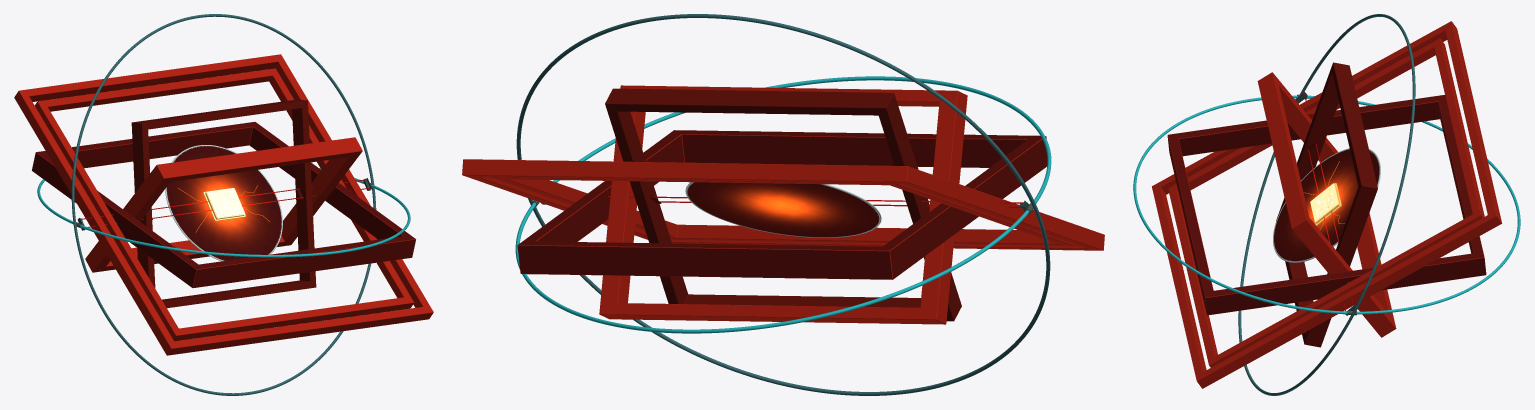
Rendered from BipolarNanoflake_FixedView_Review.fbx.
3 views of the same model, side by side, from view 1: azimuth 30°, elevation 25°; view 2: azimuth 150°, elevation 25°; view 3: azimuth 270°, elevation 25° (orthographic). The views are drawn at different scales.
Visible parts, largest first — view 1: 完整铜红长方形外框_2_蓝.003, 完整铜红长方形外框_1_橙.003, 最大框_附属内层.001, 核心_一体圆盘与灰色边框.001, 完整铜红长方形外框_4_黑.003, 完整铜红长方形外框_3_绿.003, 外围纵向大环线_闭合.001, 青色环绕细线_闭合.001; view 2: 完整铜红长方形外框_2_蓝.003, 完整铜红长方形外框_3_绿.003, 完整铜红长方形外框_1_橙.003, 完整铜红长方形外框_4_黑.003, 核心_一体圆盘与灰色边框.001, 最大框_附属内层.001, 外围纵向大环线_闭合.001, 青色环绕细线_闭合.001; view 3: 完整铜红长方形外框_2_蓝.003, 完整铜红长方形外框_1_橙.003, 最大框_附属内层.001, 完整铜红长方形外框_4_黑.003, 完整铜红长方形外框_3_绿.003, 核心_一体圆盘与灰色边框.001, 外围纵向大环线_闭合.001, 青色环绕细线_闭合.001.
Part boxes in pixels (x1,y1,x2,y2): 完整铜红长方形外框_2_蓝.003: (32,122,415,287); 完整铜红长方形外框_1_橙.003: (14,54,433,355); 最大框_附属内层.001: (35,68,414,341); 核心_一体圆盘与灰色边框.001: (165,145,282,261); 完整铜红长方形外框_4_黑.003: (85,137,362,272); 完整铜红长方形外框_3_绿.003: (131,99,316,308); 外围纵向大环线_闭合.001: (71,14,376,395); 青色环绕细线_闭合.001: (37,168,410,257); 完整铜红长方形外框_2_蓝.003: (517,130,1047,279); 完整铜红长方形外框_3_绿.003: (605,88,961,321); 完整铜红长方形外框_1_橙.003: (462,159,1104,250); 完整铜红长方形外框_4_黑.003: (599,85,967,324); 核心_一体圆盘与灰色边框.001: (685,182,881,237); 最大框_附属内层.001: (492,177,1074,245); 外围纵向大环线_闭合.001: (516,14,1050,395); 青色环绕细线_闭合.001: (515,76,1051,333); 完整铜红长方形外框_2_蓝.003: (1167,95,1486,315); 完整铜红长方形外框_1_橙.003: (1152,21,1501,388); 最大框_附属内层.001: (1168,38,1484,367); 完整铜红长方形外框_4_黑.003: (1257,72,1396,337); 完整铜红长方形外框_3_绿.003: (1276,62,1377,347); 核心_一体圆盘与灰色边框.001: (1273,148,1380,262); 外围纵向大环线_闭合.001: (1238,14,1415,395); 青色环绕细线_闭合.001: (1133,95,1520,314).
Size of the model in its own units: 218 by 203 by 215.
